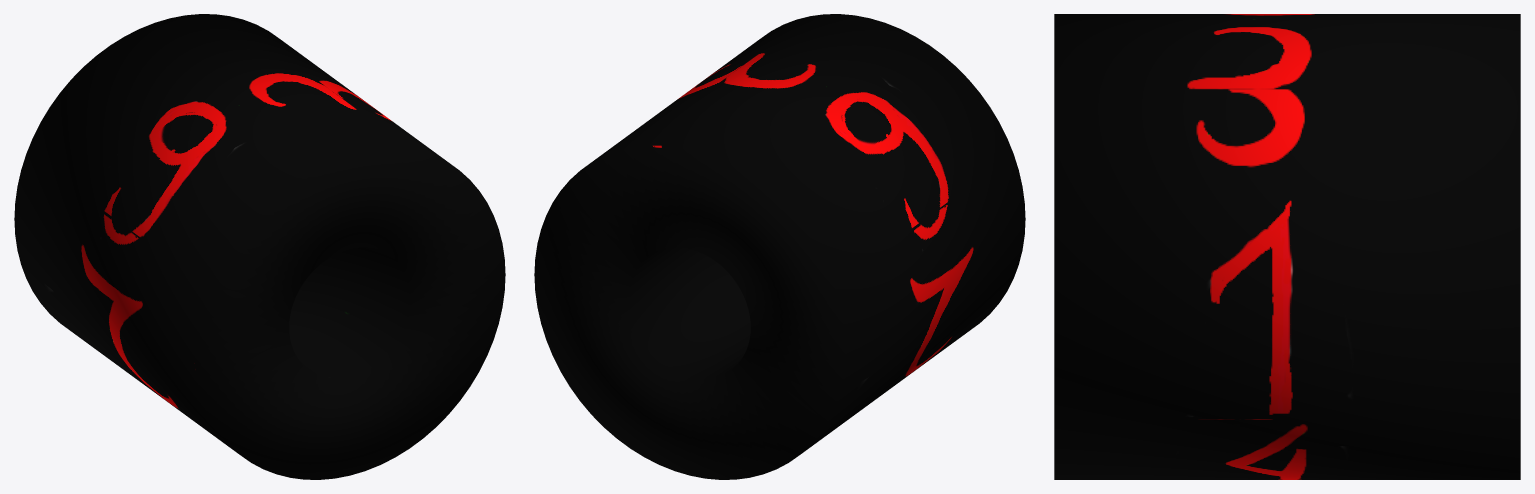
File: papier_czerwony.glb
The picture shows the model from 3 angles, left to right: view 1: azimuth 30°, elevation 25°; view 2: azimuth 150°, elevation 25°; view 3: azimuth 270°, elevation 25°; orthographic projection. The views are drawn at different scales.
Visible parts, largest first — view 1: Cylinder; view 2: Cylinder; view 3: Cylinder.
Part boxes in pixels (x1,y1,x2,y2): Cylinder: (14, 14, 505, 479); Cylinder: (534, 14, 1025, 479); Cylinder: (1054, 14, 1520, 479).
Size of the model in its own units: 0.5522 by 0.5522 by 0.5522.
1 material, 1 textured.
